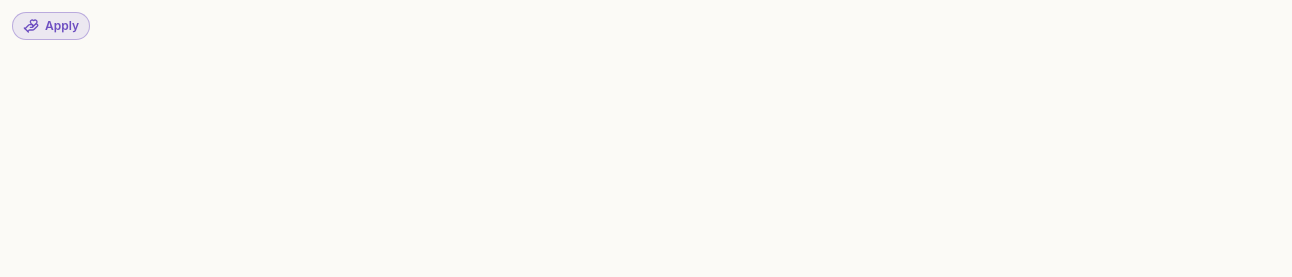
Test: ApplyToRoleButton › inserts a fresh application when the user has never applied
Click the button "Apply" at point(51, 26), box x1=12 y1=12 x2=90 y2=40
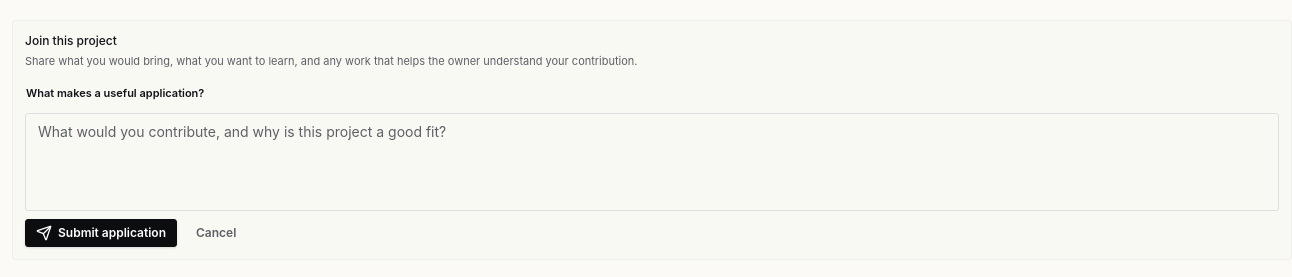
Type "Let's build" into the text box with placeholder "What would you contribute" at point(652, 162), box x1=25 y1=113 x2=1279 y2=211
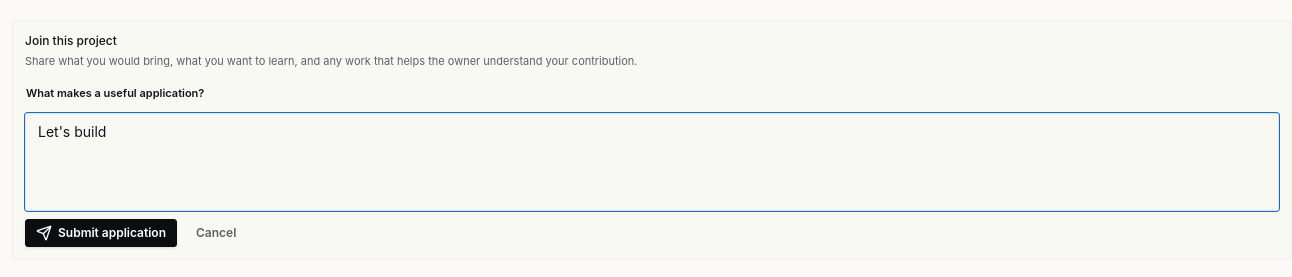
Click the button "Submit application" at point(101, 233), box x1=25 y1=219 x2=177 y2=247
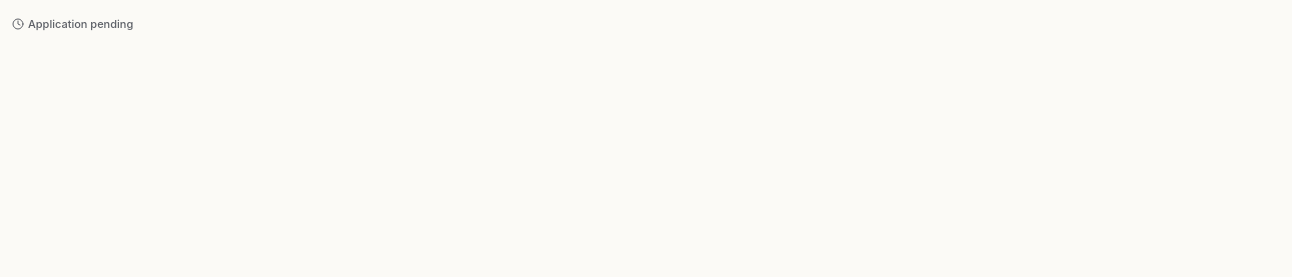
Check: the text "Application pending" is shown, box x1=12 y1=16 x2=133 y2=32
